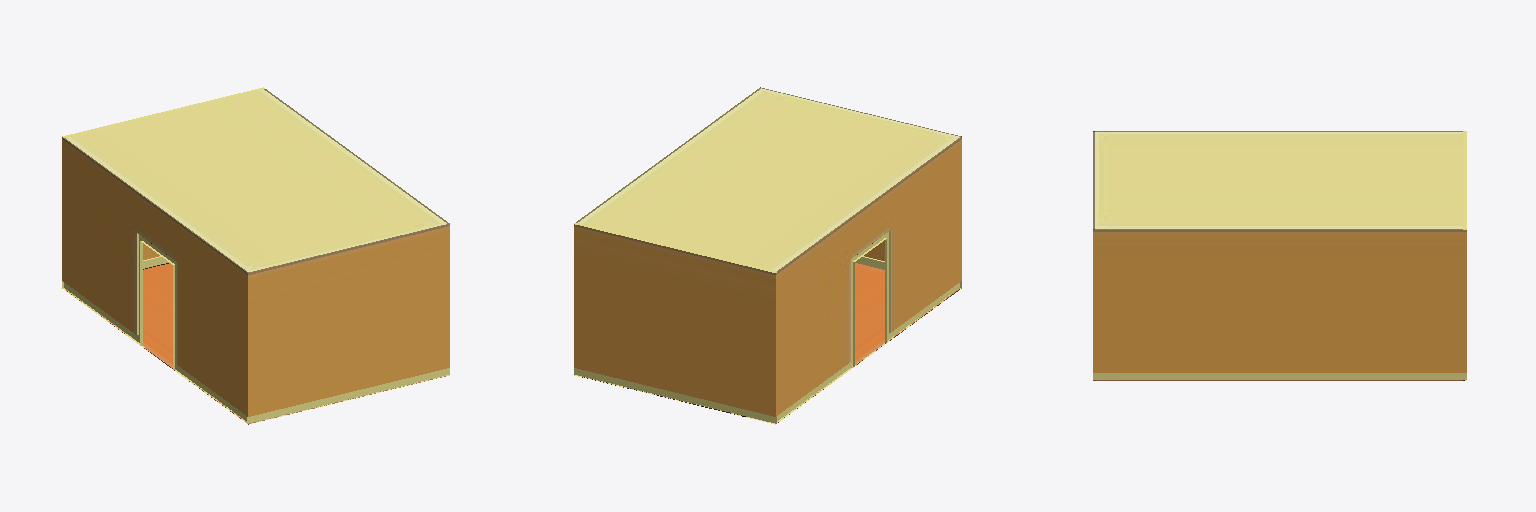
3 renders of one model, left to right at view 1: azimuth 30°, elevation 25°; view 2: azimuth 150°, elevation 25°; view 3: azimuth 270°, elevation 25°, orthographic.
Parts seen in each view (by area): view 1: room_Cube.002; view 2: room_Cube.002; view 3: room_Cube.002.
Part boxes in pixels (x1,y1,x2,y2): room_Cube.002: (62,87,449,424); room_Cube.002: (574,87,961,424); room_Cube.002: (1093,131,1466,380).
Size of the model in its own units: 12.92 by 9.24 by 20.67.
Materials: 1 (1 with a texture image).